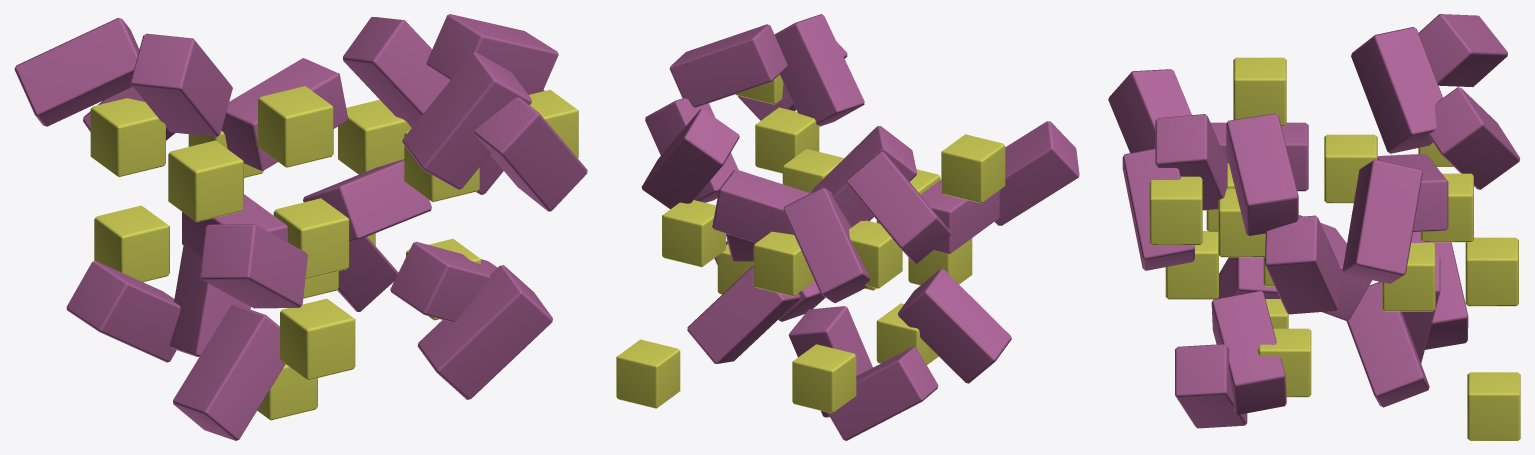
Rendered from cubebutterfly.fbx.
3 renders of one model, left to right at view 1: azimuth 30°, elevation 25°; view 2: azimuth 150°, elevation 25°; view 3: azimuth 270°, elevation 25°, orthographic. The views are drawn at different scales.
Parts seen in each view (by area): view 1: longcube37, longcube36, longcube23, longcube29, longcube24, longcube28, longcube26, longcube44, longcube38, longcube30, longcube35, longcube32 (+16 smaller); view 2: longcube37, longcube23, longcube30, longcube25, longcube29, longcube33, longcube28, longcube44, longcube38, longcube31, pCube34, pCube31 (+18 smaller); view 3: longcube24, longcube44, longcube30, longcube35, longcube27, longcube33, longcube25, longcube29, longcube36, longcube23, longcube28, pCube34 (+18 smaller).
Boxes of the visible parts, box(x1,y1,x2,y2) form: longcube37: box(173, 304, 285, 440); longcube36: box(417, 265, 552, 399); longcube23: box(402, 52, 531, 189); longcube29: box(14, 18, 139, 126); longcube24: box(130, 33, 232, 136); longcube28: box(200, 224, 307, 308); longcube26: box(474, 97, 587, 211); longcube44: box(343, 17, 449, 127); longcube38: box(66, 260, 180, 362); longcube30: box(426, 14, 558, 94); longcube35: box(390, 241, 497, 322); longcube32: box(303, 159, 431, 242); longcube37: box(898, 269, 1011, 383); longcube23: box(774, 14, 864, 126); longcube30: box(669, 24, 787, 107); longcube25: box(783, 187, 869, 303); longcube29: box(846, 151, 950, 263); longcube33: box(687, 265, 800, 363); longcube28: box(994, 121, 1079, 225); longcube44: box(641, 109, 739, 209); longcube38: box(827, 347, 938, 440); longcube31: box(712, 169, 810, 242); pCube34: box(792, 344, 856, 413); pCube31: box(616, 339, 680, 408); longcube24: box(1351, 27, 1442, 153); longcube44: box(1342, 159, 1422, 283); longcube30: box(1226, 113, 1298, 235); longcube35: box(1211, 290, 1286, 414); longcube27: box(1264, 215, 1339, 314); longcube33: box(1346, 281, 1429, 407); longcube25: box(1428, 87, 1520, 189); longcube29: box(1418, 14, 1507, 86); longcube36: box(1175, 344, 1247, 428); longcube23: box(1155, 114, 1227, 210); longcube28: box(1108, 69, 1191, 152); pCube34: box(1465, 237, 1518, 306).
Size of the model in its own units: 87.02 by 68.06 by 77.37.
